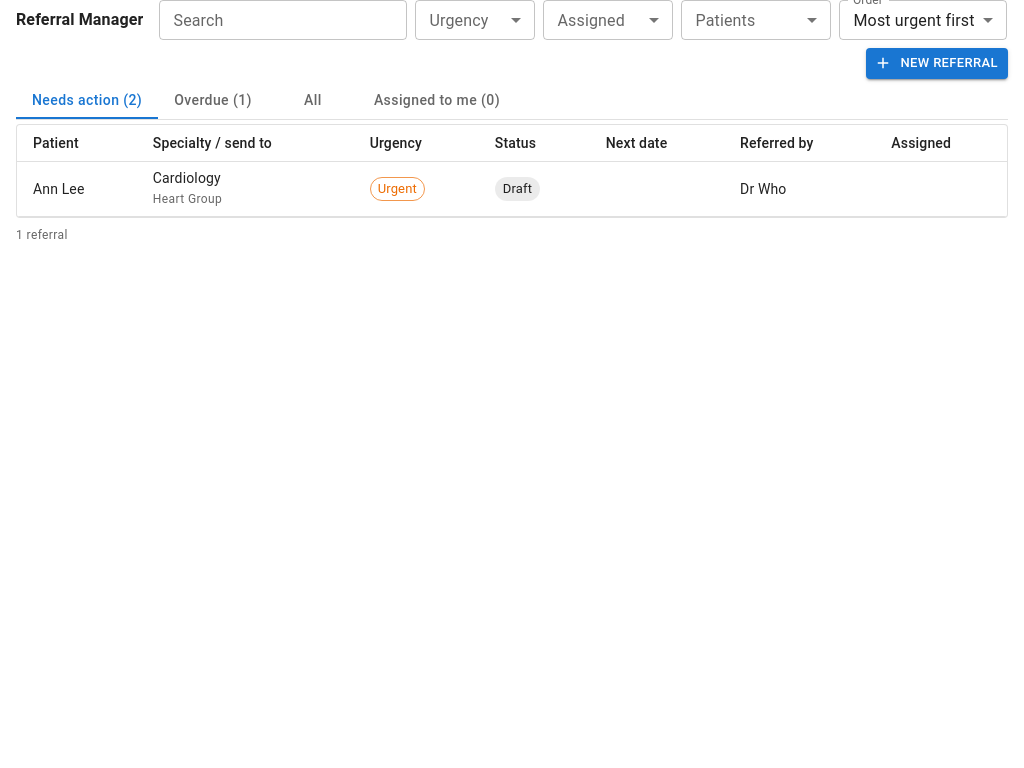
Test case: opening a referral shows only the steps the server allows, and a step needing a reason asks for it
Click the row with test id "referral-row-11": [512, 189] box [17,161,1007,216]
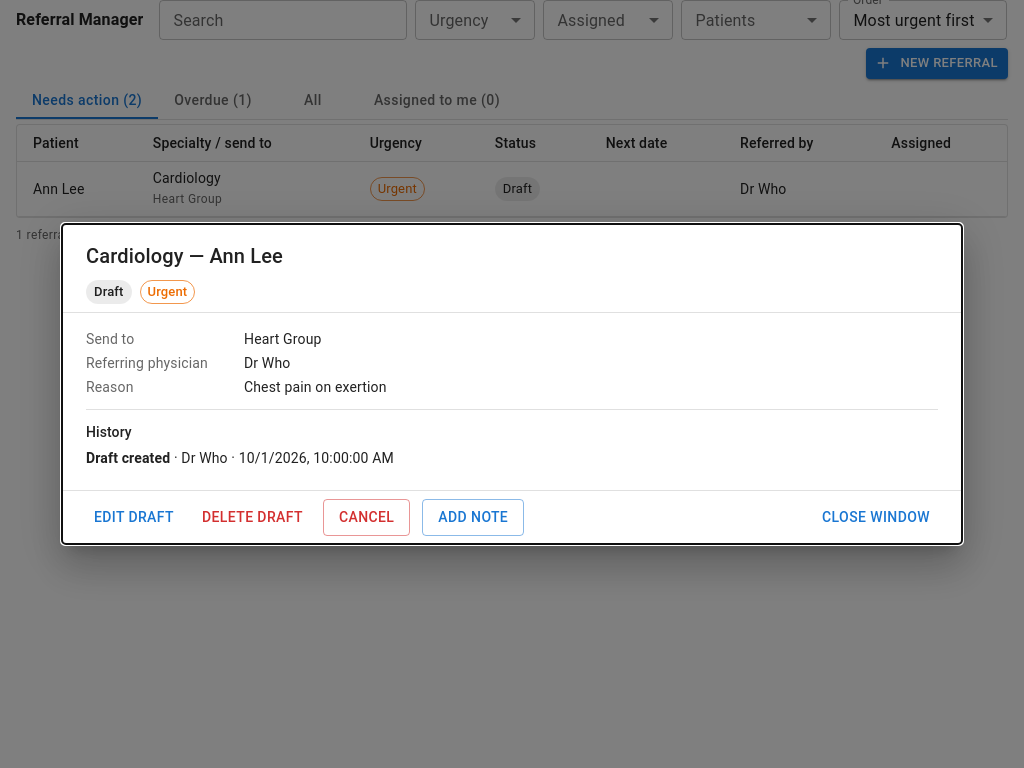
Expected: the element with test id "referral-detail" is shown
Expected: the button with test id "referral-action-cancel" is shown
Expected: the element with test id "referral-timeline" shows "Draft created", [86,450,170,466]
Click the button with test id "referral-action-cancel": [367, 518] box [323,499,410,536]
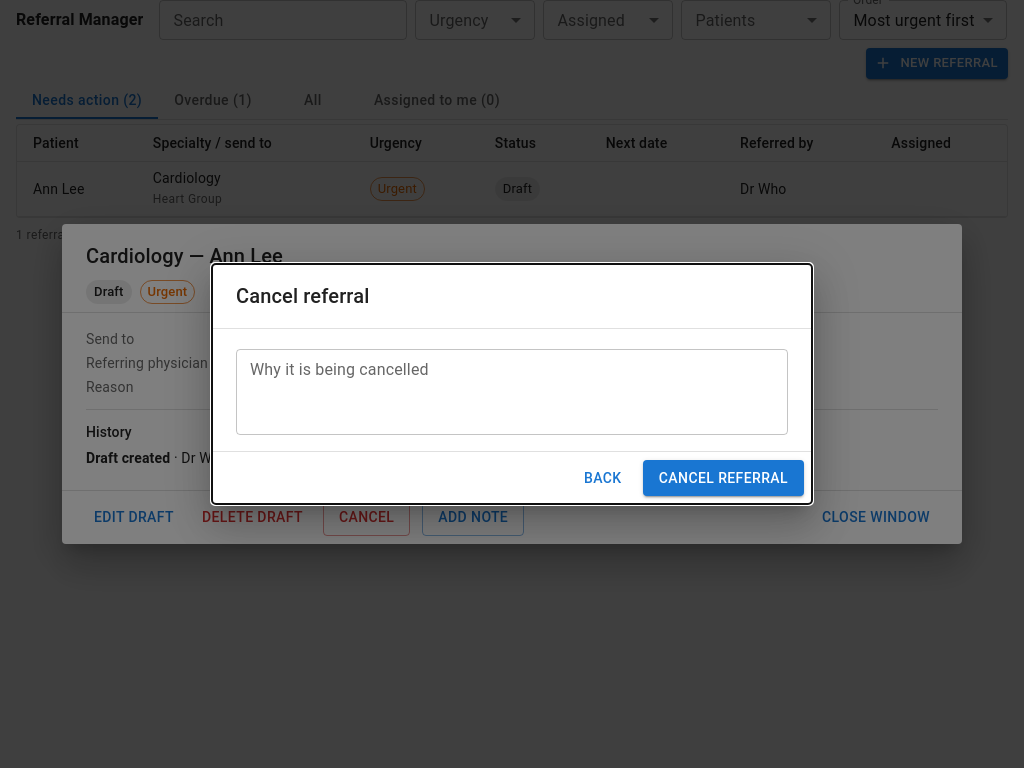
Click the button with test id "referral-action-confirm": [723, 478] box [643,460,804,496]
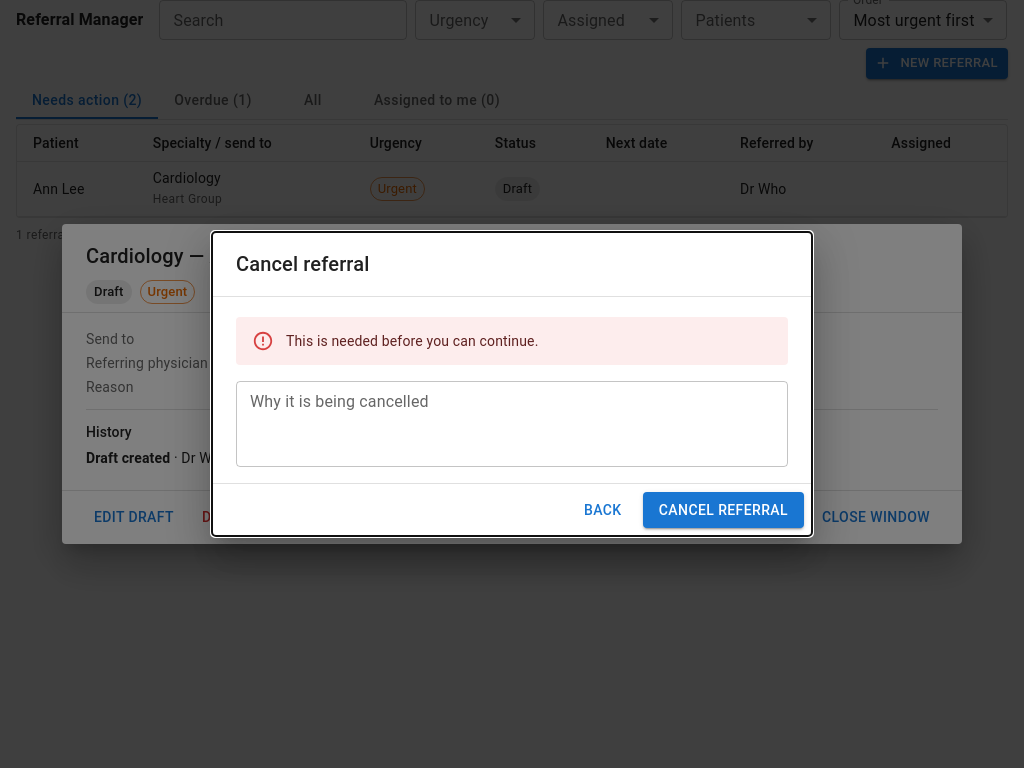
Expected: the message "This is needed before you can continue." is shown, [236,317,788,365]
In the text box with test id "referral-action-text": [512, 424] box [250,389,774,458], type "Duplicate"
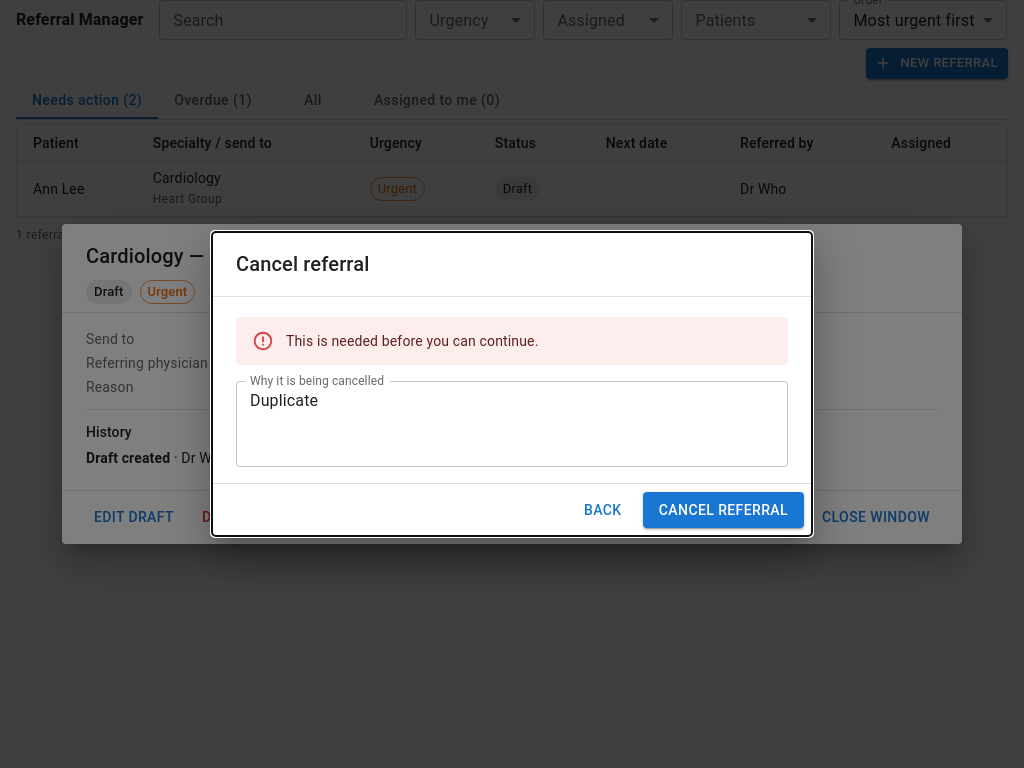
Click the button with test id "referral-action-confirm": [723, 510] box [643,492,804,528]
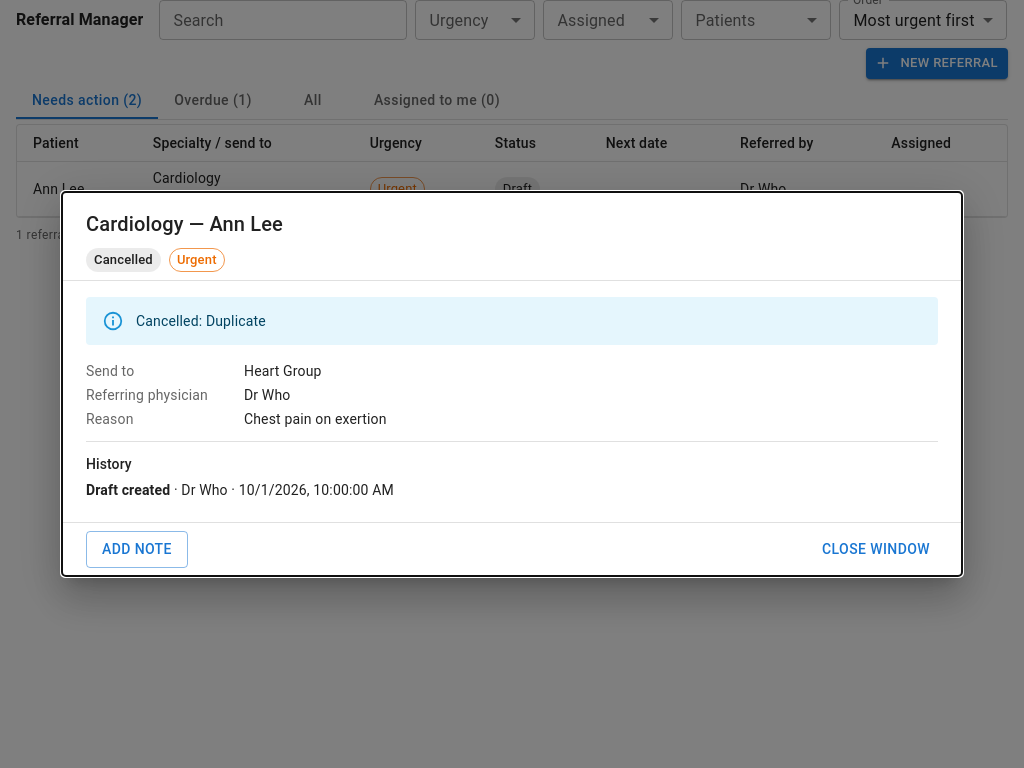
Expected: the element with test id "referral-status" reads "Cancelled", [94,252,153,268]
